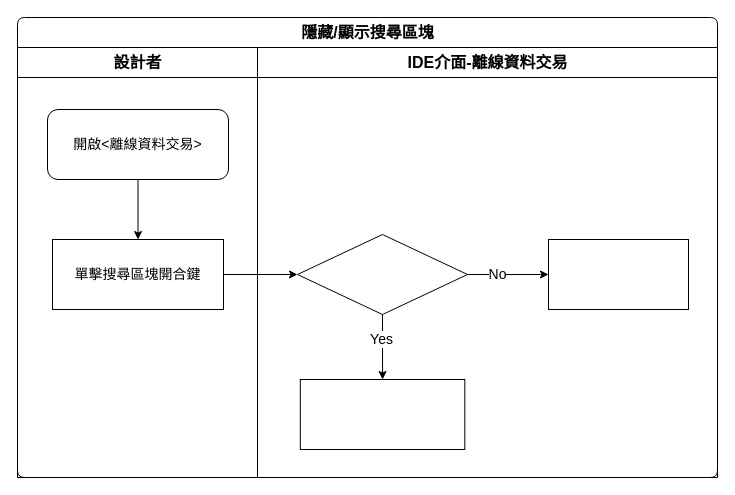
This 735x495 diagram has some shape labels left out. The centre of each missing label's shape, as x and y in pixels:
"搜尋區塊 已顯示在畫面上" belongs at [382,274].
"隱藏搜尋區塊" belongs at [382,414].
"顯示搜尋區塊" belongs at [618,274].
